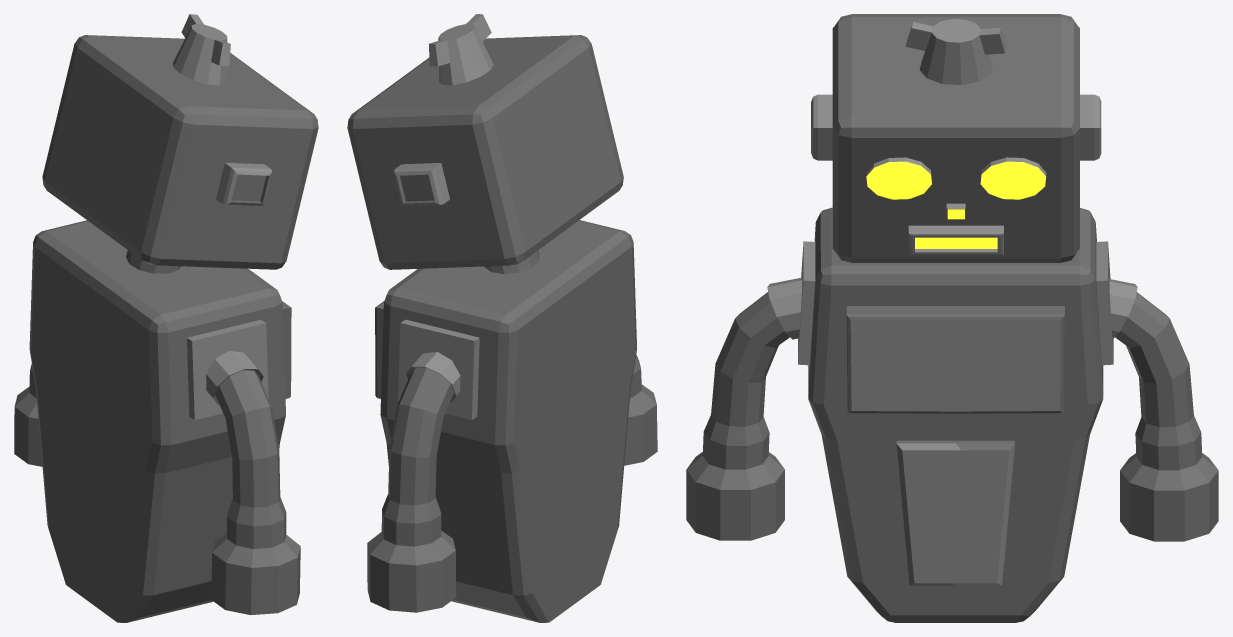
File: robot dañado4.glb
The picture shows the model from 3 angles, left to right: view 1: azimuth 30°, elevation 25°; view 2: azimuth 150°, elevation 25°; view 3: azimuth 270°, elevation 25°; orthographic projection. The views are drawn at different scales.
Parts seen in each view (by area): view 1: torso.001, cabeza.001, brazo2, hombro2, brazo; view 2: torso.001, cabeza.001, brazo, hombro, brazo2; view 3: torso.001, cabeza.001, brazo2, brazo, hombro, hombro2.
Part boxes in pixels (bbox=[...]): torso.001: bbox=[29, 220, 291, 622]; cabeza.001: bbox=[42, 14, 318, 273]; brazo2: bbox=[206, 350, 300, 614]; hombro2: bbox=[187, 320, 268, 419]; brazo: bbox=[14, 363, 42, 466]; torso.001: bbox=[375, 220, 636, 622]; cabeza.001: bbox=[347, 14, 623, 274]; brazo: bbox=[367, 352, 460, 612]; hombro: bbox=[398, 319, 479, 419]; brazo2: bbox=[624, 355, 657, 465]; torso.001: bbox=[808, 207, 1103, 622]; cabeza.001: bbox=[811, 14, 1101, 262]; brazo2: bbox=[686, 277, 802, 540]; brazo: bbox=[1109, 279, 1218, 541]; hombro: bbox=[1096, 241, 1113, 365]; hombro2: bbox=[798, 241, 815, 365].
Size of the model in its own units: 2.02 by 5.98 by 4.84.
